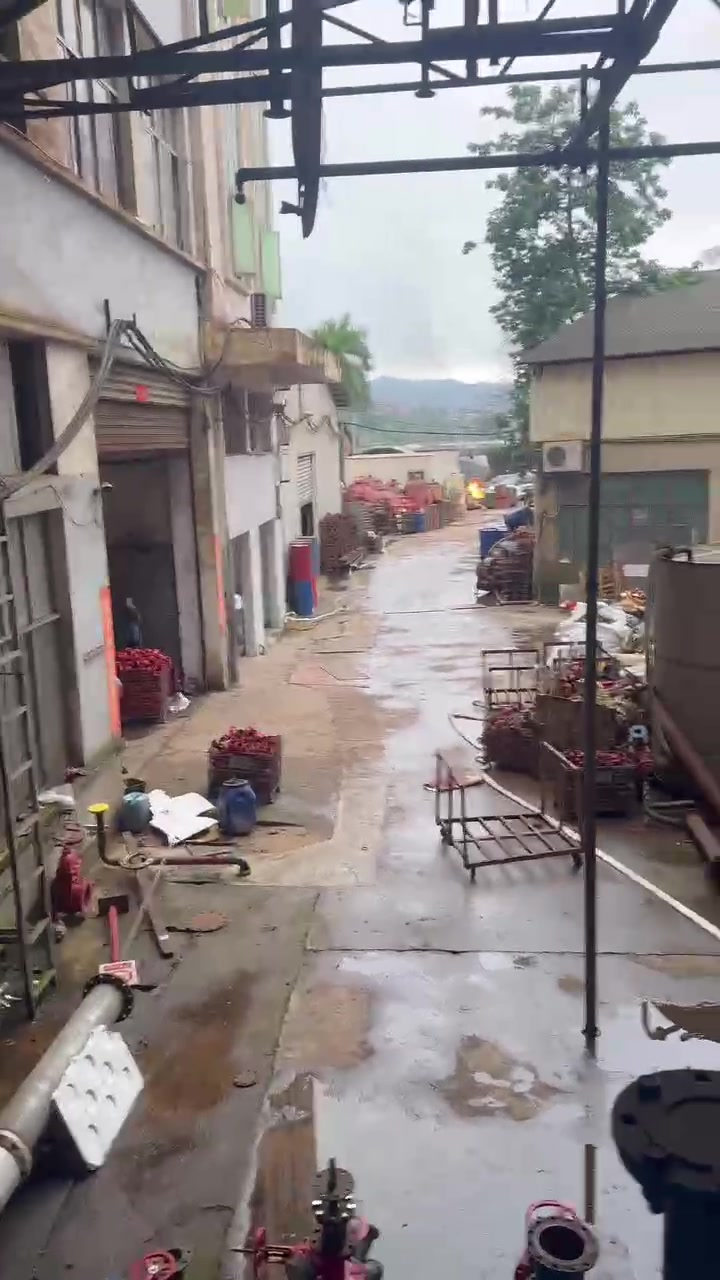fire: (466, 478, 484, 497)
